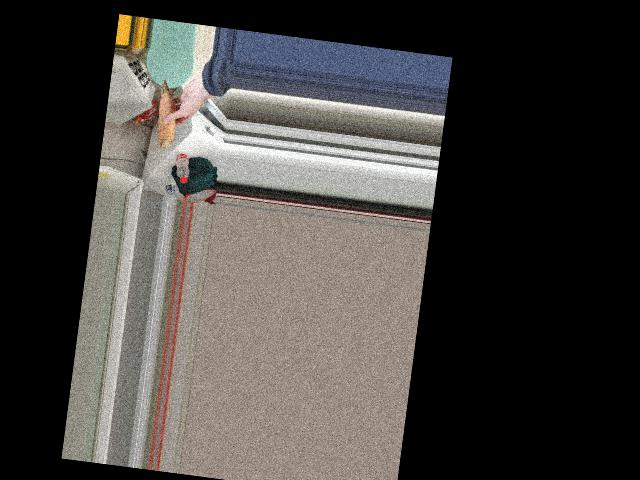sweet_potato: (156, 83, 183, 152)
